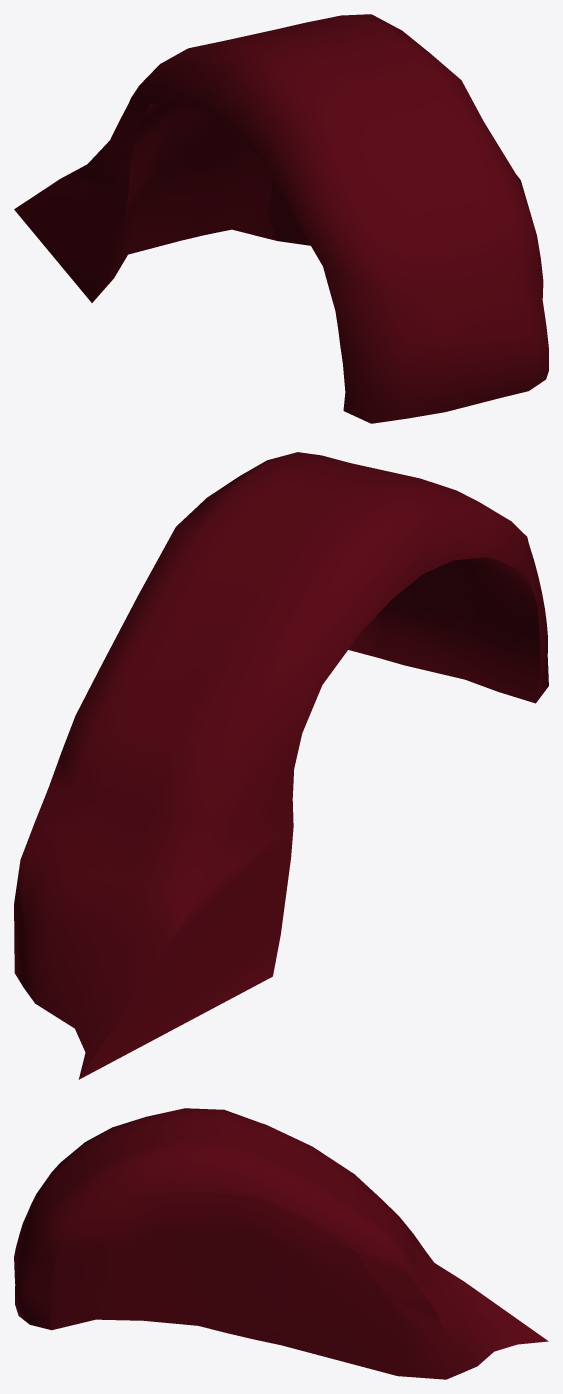
The model's file is NashTT.ArcFR.glb.
3 views of the same model, one above another, from view 1: azimuth 30°, elevation 25°; view 2: azimuth 150°, elevation 25°; view 3: azimuth 270°, elevation 25° (orthographic). The views are drawn at different scales.
Parts seen in each view (by area): view 1: Cube.f; view 2: Cube.f; view 3: Cube.f.
Boxes of the visible parts, x1,y1,x2,y2 form: Cube.f: (14, 14, 548, 423); Cube.f: (14, 452, 548, 1079); Cube.f: (14, 1108, 548, 1379).
Bounding box in the file's own units: 0.8268 × 1.25 × 2.67.
